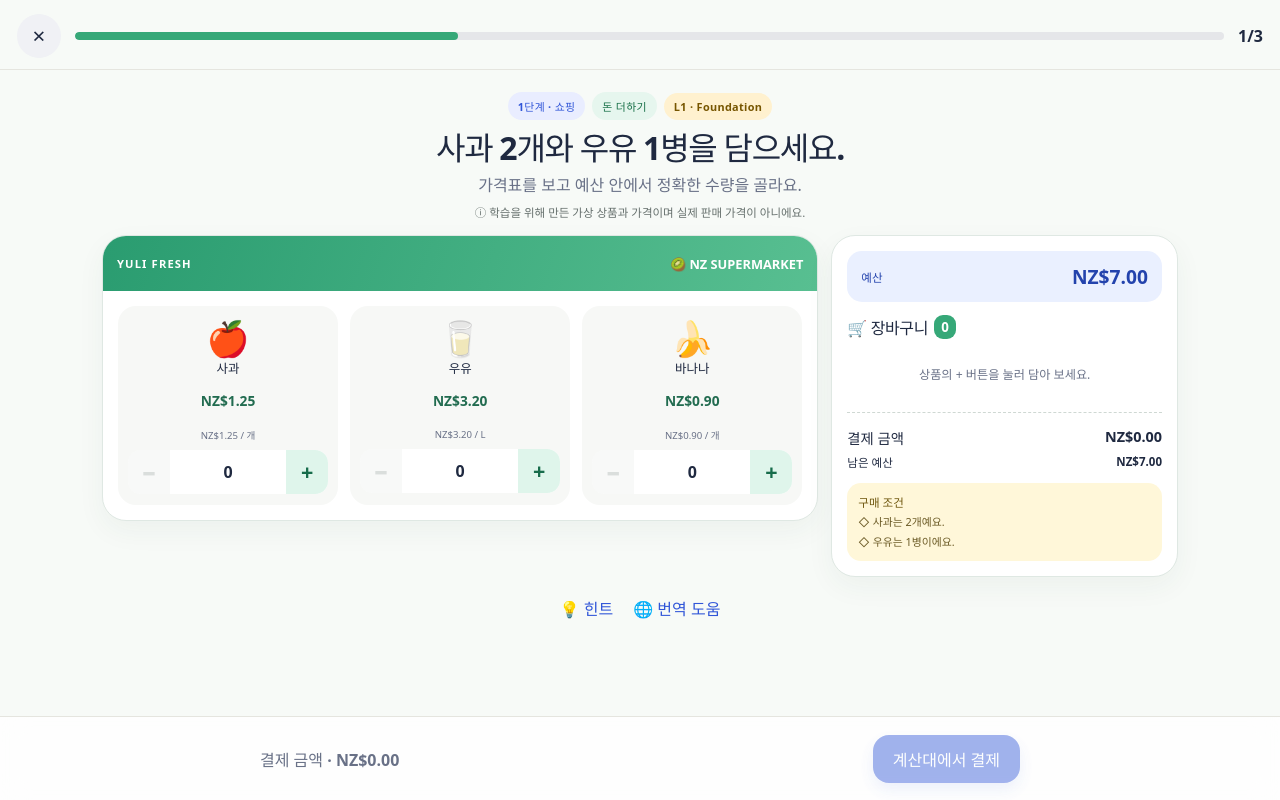
Test: ShoppingMission › adds and removes products with live integer-cent totals
The width and height of the screenshot is (1280, 800).
Click the button named "사과 추가" at [307, 472], box [286,450,328,494]
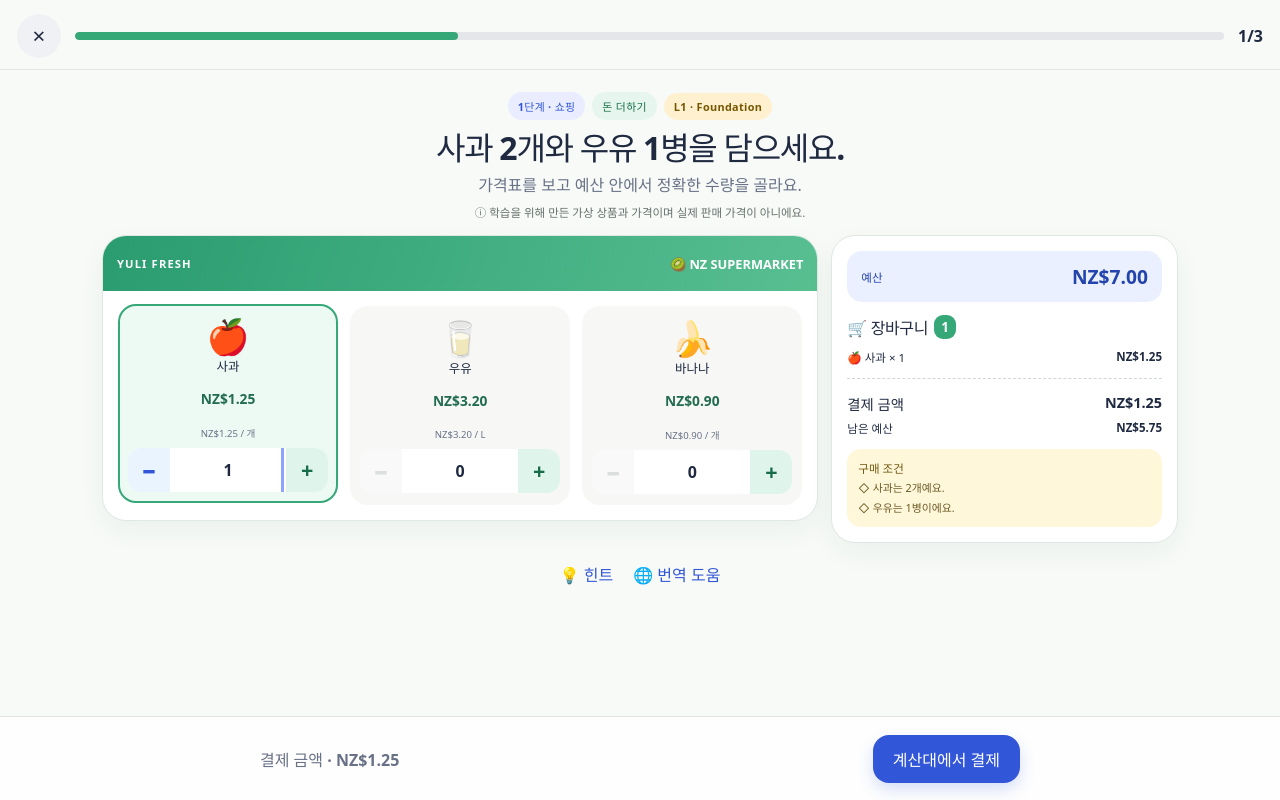
Click the button named "사과 추가" at [307, 470], box [286,448,328,492]
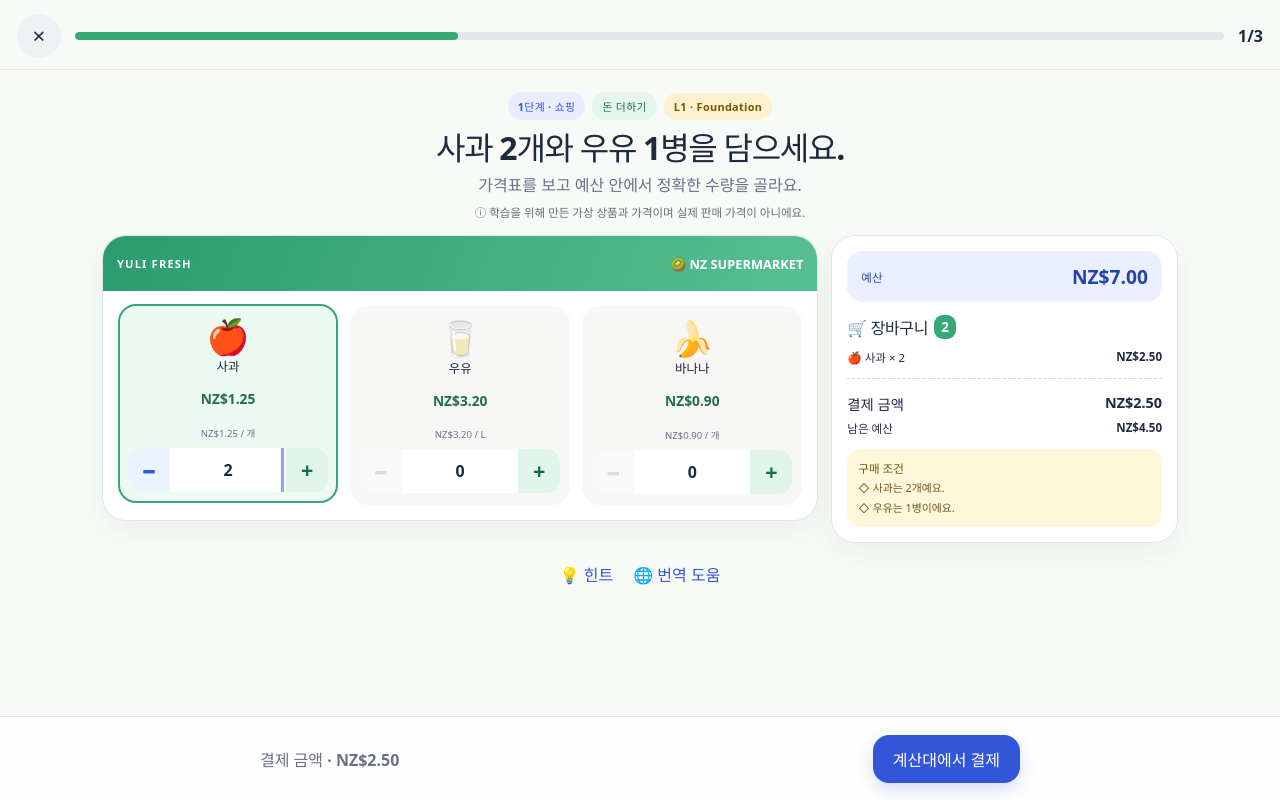
Click the button named "우유 추가" at [539, 471], box [518,449,560,493]
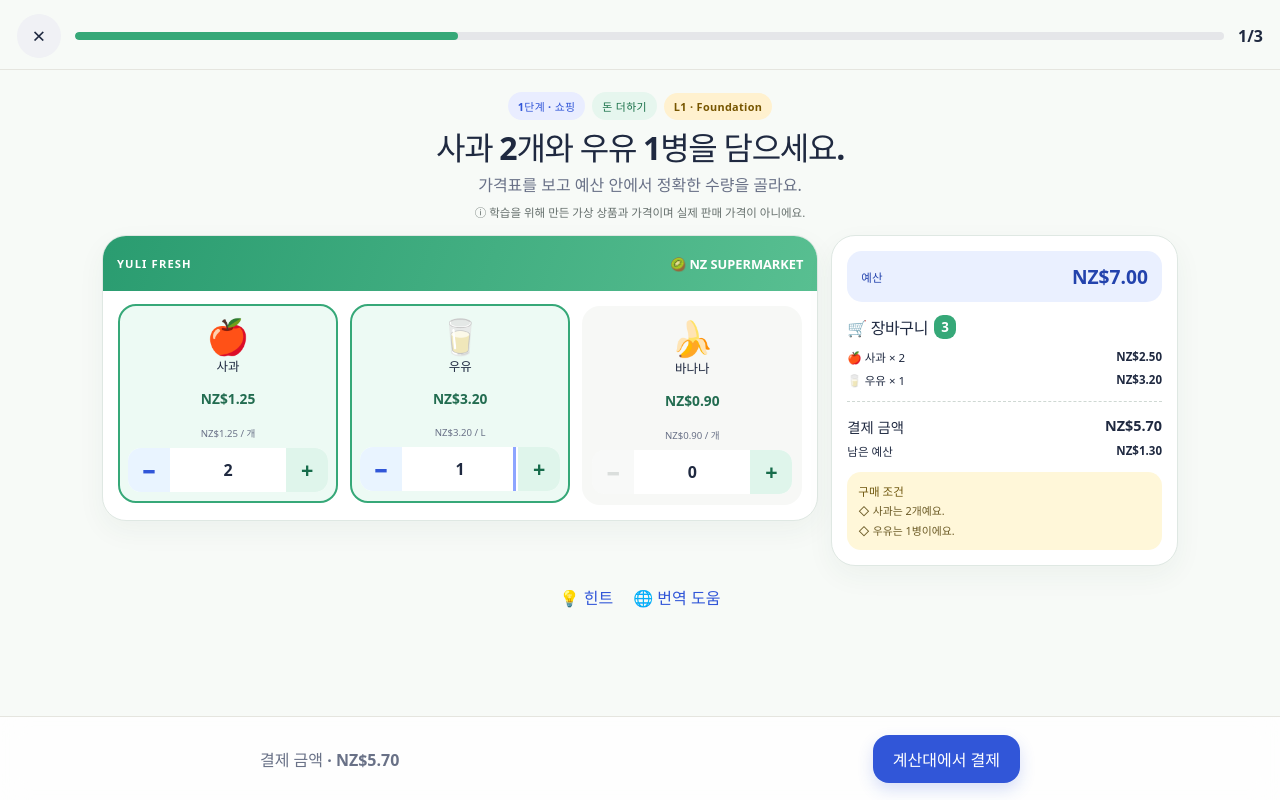
Now the text "NZ$5.70" is shown, box [1105,416,1162,437]
Click the button named "사과 빼기" at [149, 470], box [128,448,170,492]
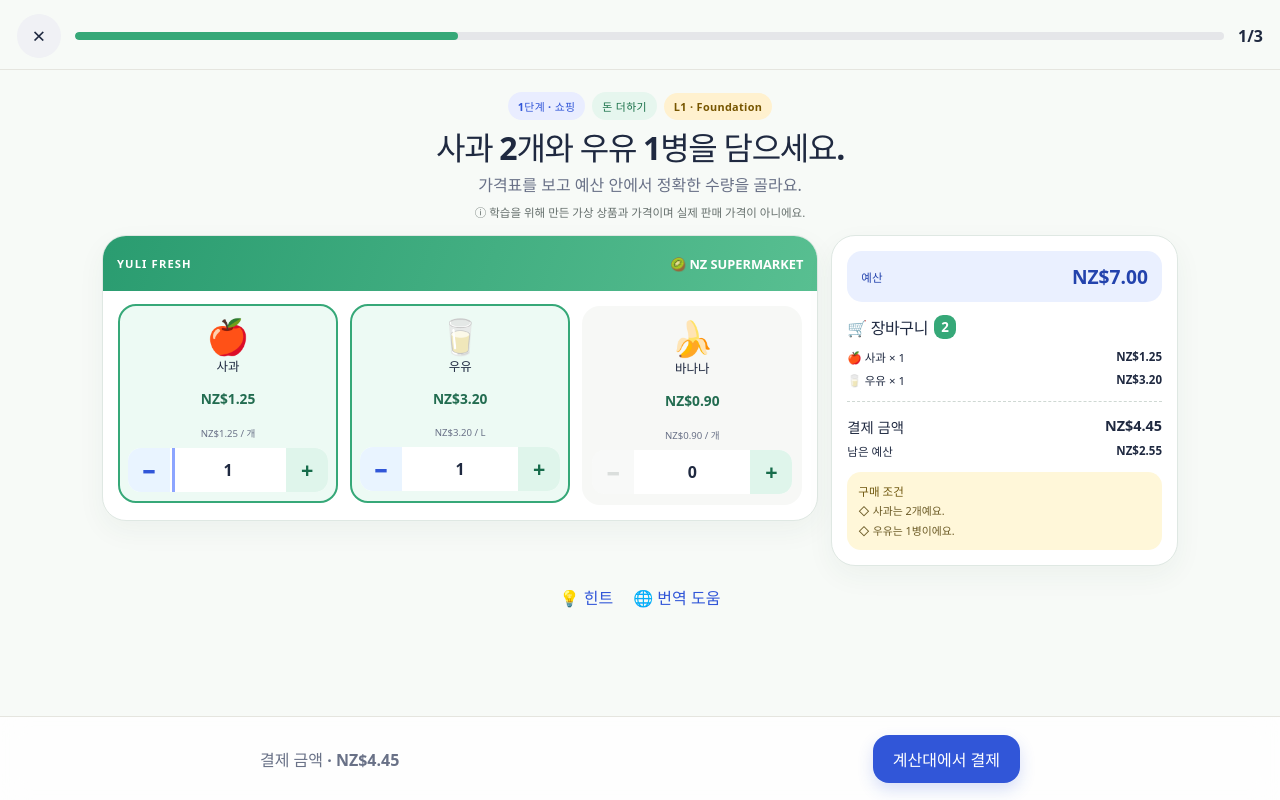
Now the text "NZ$4.45" is shown, box [1105,416,1162,437]
